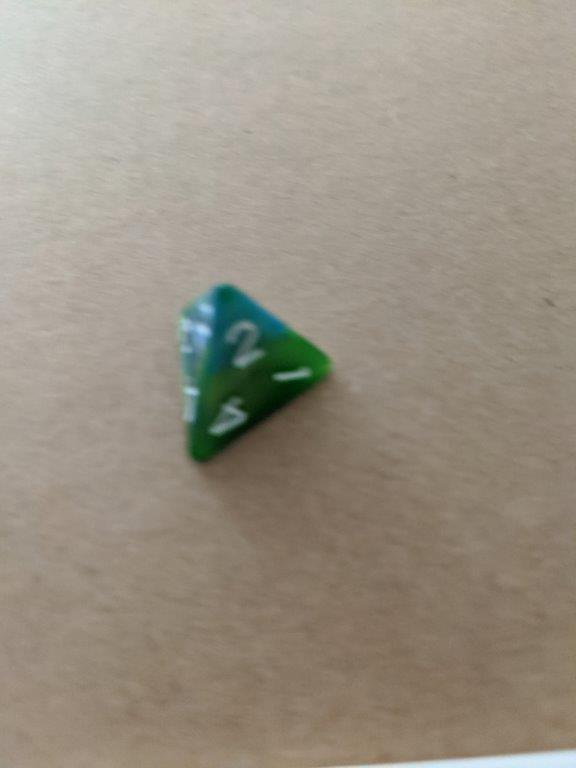d4-2: (175, 278, 336, 473)
